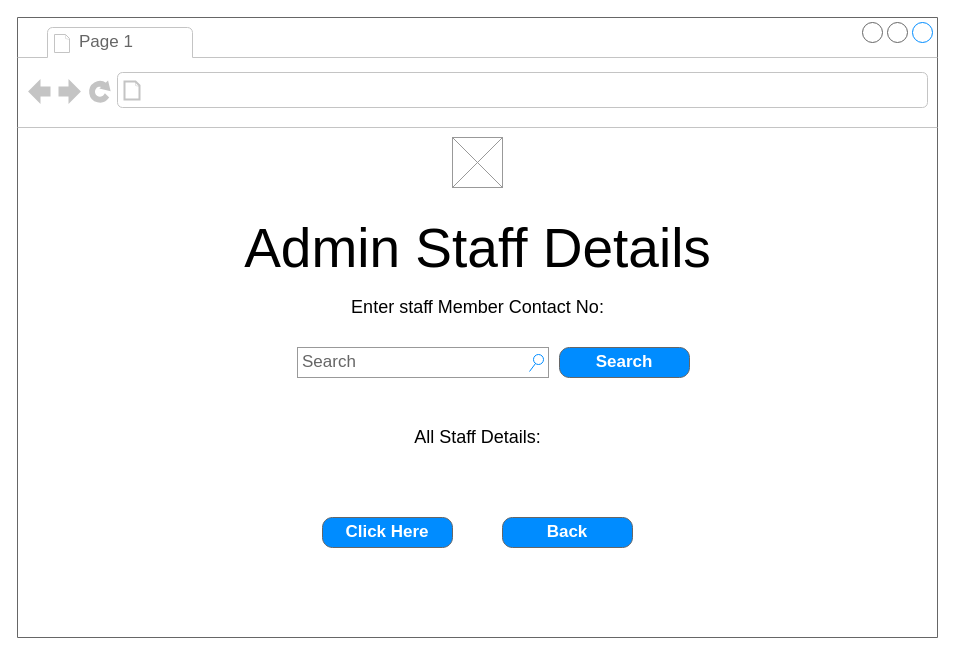
The diagram is 955 pixels wide and 655 high, and some of its shapes have lost their labels. The box of each missing label's shape, as (x1, y1, x2, y2) in pixels:
https://www.Admin_Home.html: (146, 76, 398, 104)
Logo: (452, 136, 502, 188)
